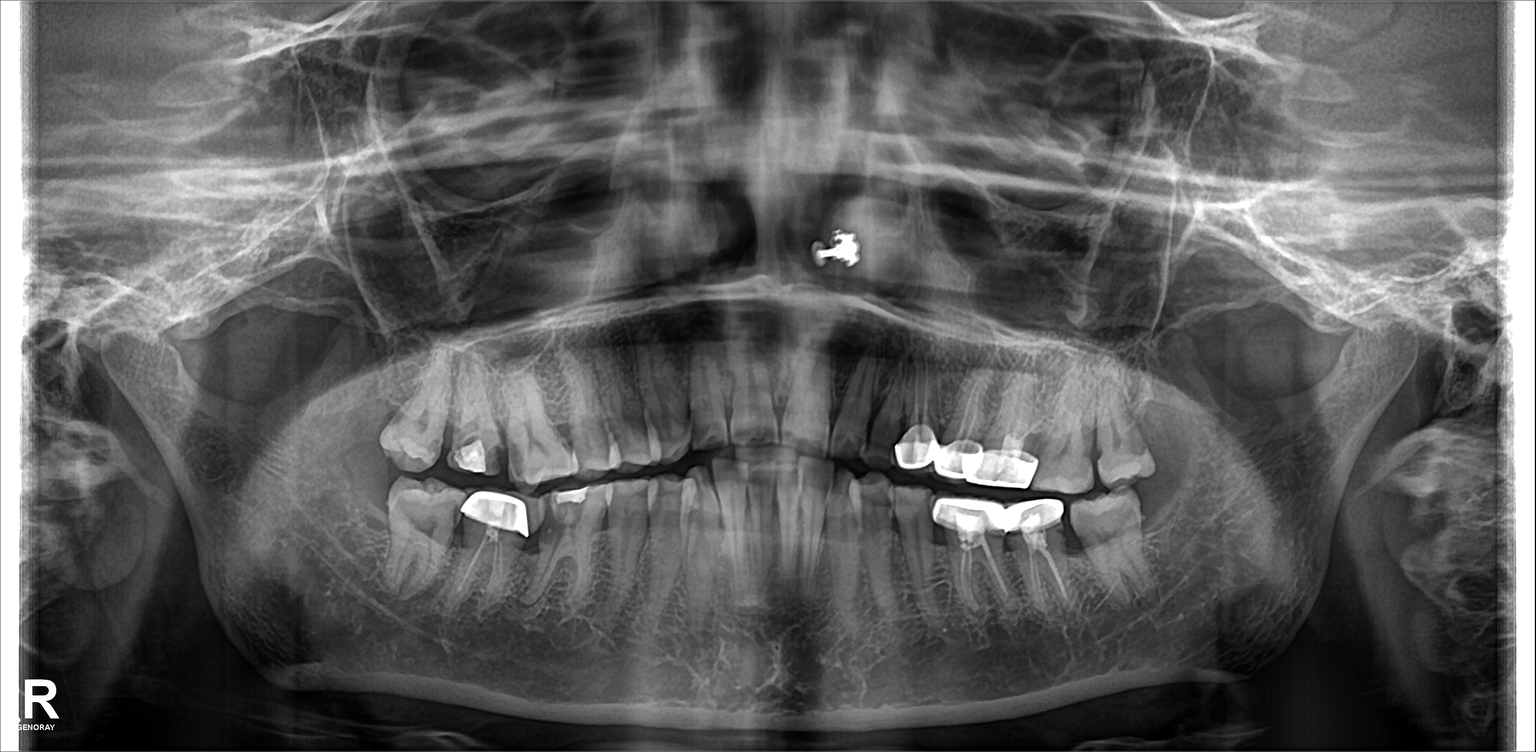Dental Caries: (449, 413, 510, 471), (492, 428, 524, 465)
Endodontically Treated Tooth: (458, 486, 526, 599), (939, 501, 989, 621), (1021, 508, 1064, 640), (901, 376, 953, 478), (998, 370, 1035, 489), (985, 504, 1019, 621), (950, 369, 985, 477)
